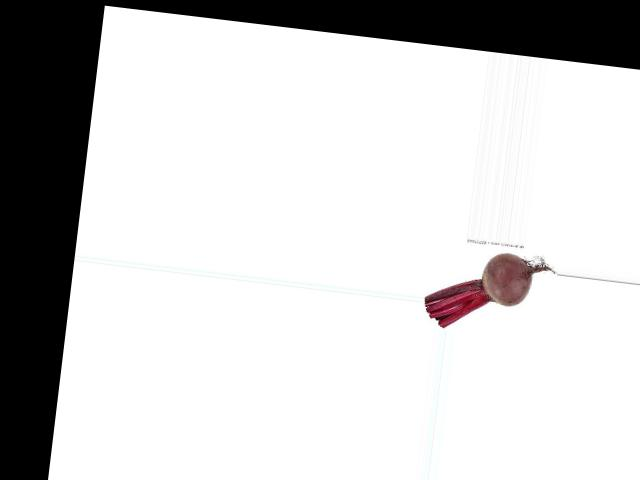beet: (421, 244, 556, 339)
